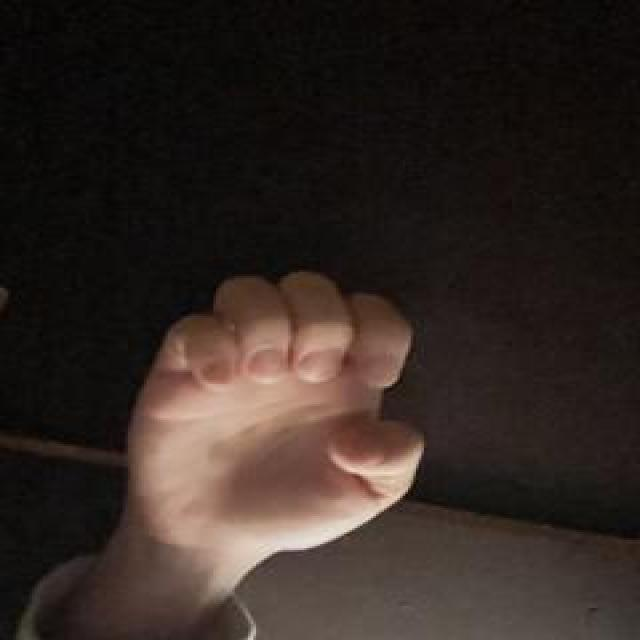E: (48, 205, 483, 621)
